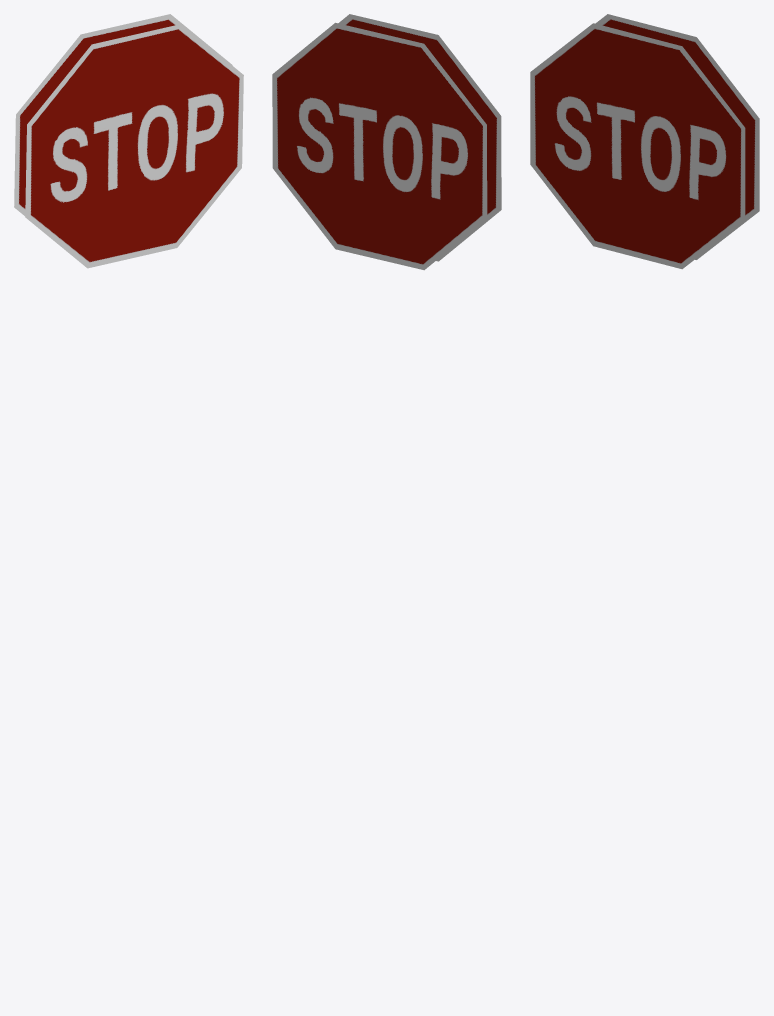
The model's file is CityKit2.fbx_SignPost.fbx.
3 renders of one model, left to right at view 1: azimuth 30°, elevation 25°; view 2: azimuth 150°, elevation 25°; view 3: azimuth 330°, elevation 25°, orthographic.
Parts seen in each view (by area): view 1: SignPost; view 2: SignPost; view 3: SignPost.
Boxes of the visible parts, left/top/right/bottom form: SignPost: left=14, top=14, right=243, bottom=268; SignPost: left=272, top=14, right=501, bottom=270; SignPost: left=530, top=14, right=759, bottom=269.
Size of the model in its own units: 198 by 838 by 23.74.
Materials: 1 (1 with a texture image).
